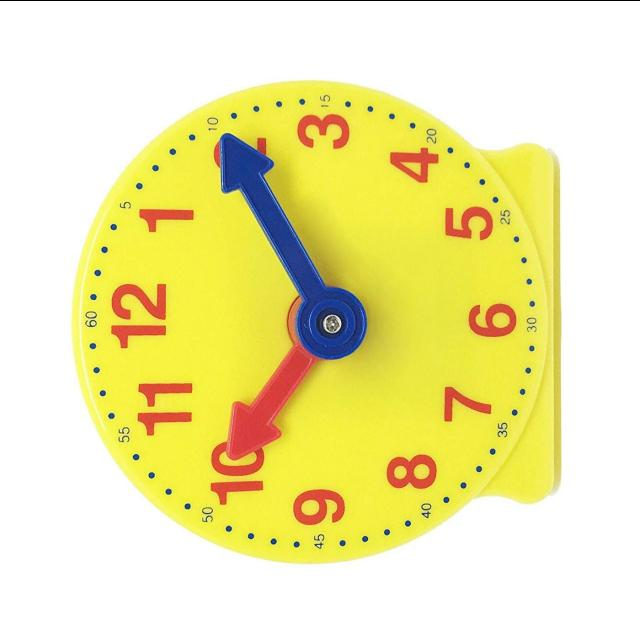clock: (89, 23, 503, 523)
